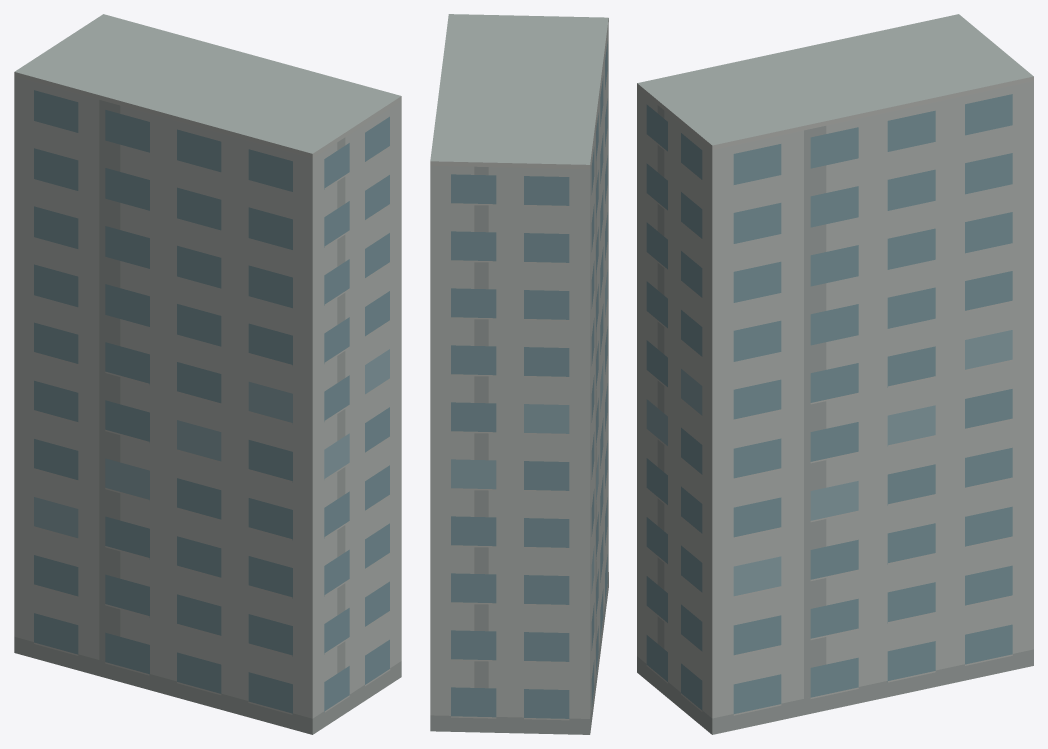
Rendered from residential-415daec1-b451-438e-bc5a-902ec5f69121.glb.
The picture shows the model from 3 angles, left to right: view 1: azimuth 30°, elevation 25°; view 2: azimuth 150°, elevation 25°; view 3: azimuth 270°, elevation 25°; orthographic projection. The views are drawn at different scales.
Parts seen in each view (by area): view 1: residential-415daec1-b451-438e-bc5a-902ec5f69121.tmp; view 2: residential-415daec1-b451-438e-bc5a-902ec5f69121.tmp; view 3: residential-415daec1-b451-438e-bc5a-902ec5f69121.tmp.
Boxes of the visible parts, x1=… form: residential-415daec1-b451-438e-bc5a-902ec5f69121.tmp: x1=14, y1=14, x2=401, y2=734; residential-415daec1-b451-438e-bc5a-902ec5f69121.tmp: x1=430, y1=14, x2=608, y2=734; residential-415daec1-b451-438e-bc5a-902ec5f69121.tmp: x1=637, y1=14, x2=1033, y2=734.
Size of the model in its own units: 14.84 by 31 by 18.92.
